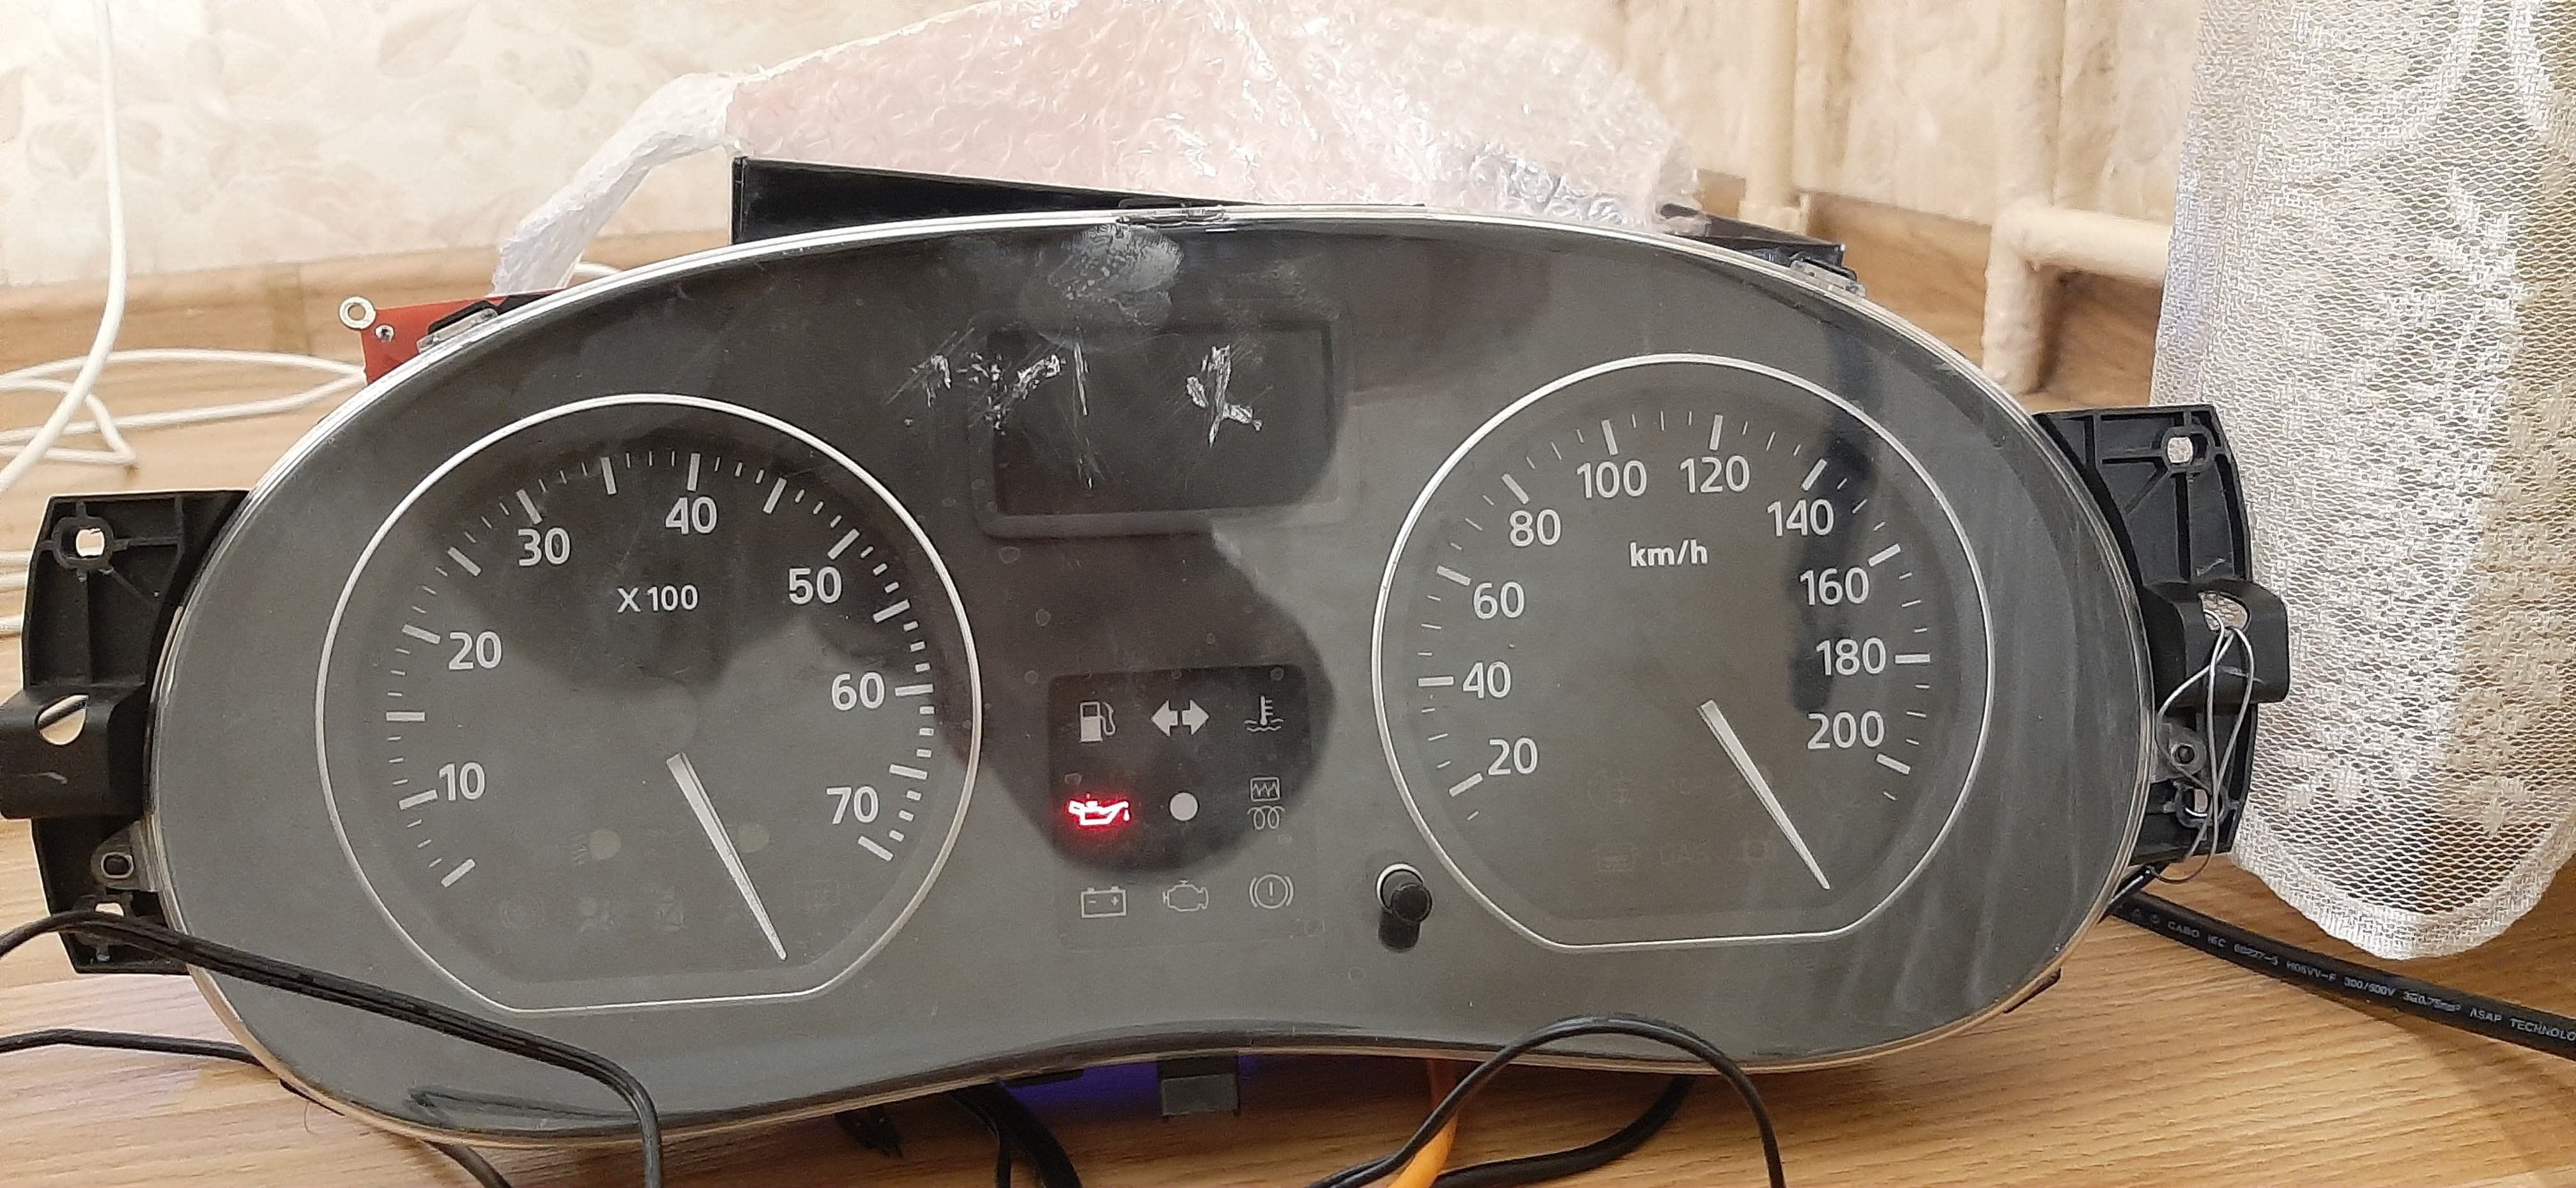oil3: (1063, 795, 1134, 827)
